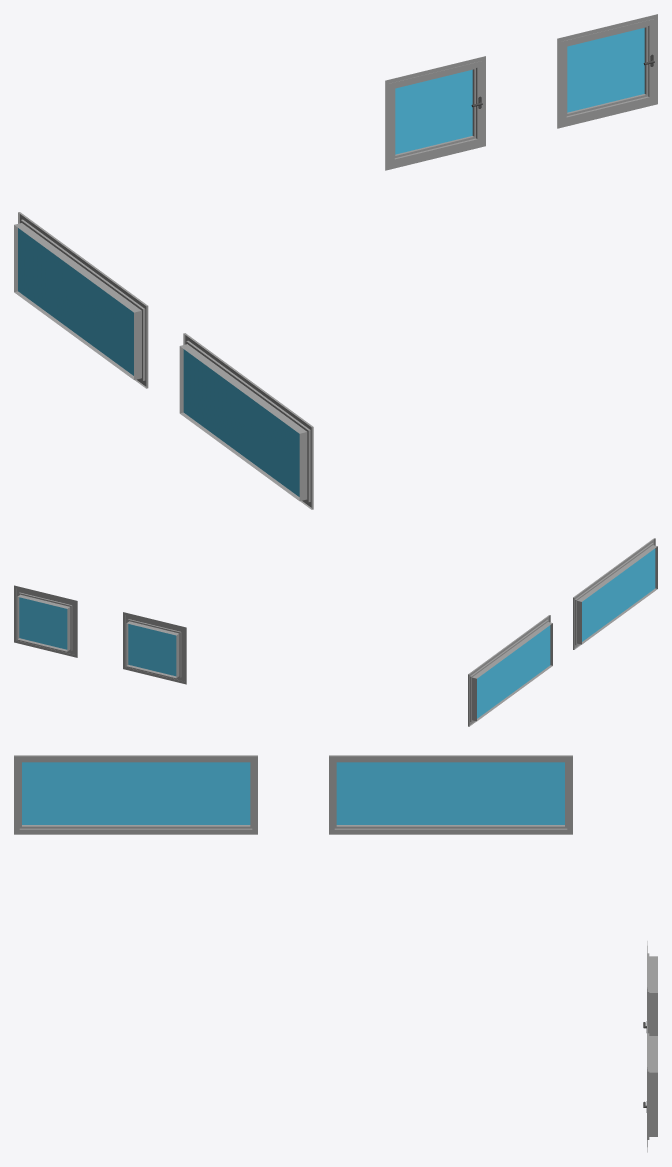
Rendered from Ventanas.fbx.
3 views of the same model, one above another, from view 1: azimuth 30°, elevation 25°; view 2: azimuth 150°, elevation 25°; view 3: azimuth 270°, elevation 25° (orthographic). The views are drawn at different scales.
Visible parts, largest first — view 1: Ctal Esp Abjo, Ctal Esp Arriba, CristalConsultaIzq, CristalConsultaDer, MarcoVentanaRecepcionIzq, MarcoVentanaRecepcionDer, MarcoVentanaConsultaIzq, MarcoVentanaConsultaDer; view 2: Ctal Esp Abjo, Ctal Esp Arriba, CristalConsultaDer, CristalConsultaIzq, MarcoVentanaConsultaIzq, MarcoVentanaConsultaDer, MarcoVentanaRecepcionIzq, MarcoVentanaRecepcionDer; view 3: Ctal Esp Abjo, Ctal Esp Arriba, MarcoVentanaRecepcionDer, MarcoVentanaRecepcionIzq, MarcoVentanaConsultaDer, MarcoVentanaConsultaIzq.
Part boxes in pixels (box(x1,y1,x2,y2)): Ctal Esp Abjo: box(183, 349, 299, 496); Ctal Esp Arriba: box(18, 228, 133, 375); CristalConsultaIzq: box(395, 69, 472, 154); CristalConsultaDer: box(567, 28, 644, 112); MarcoVentanaRecepcionIzq: box(179, 333, 313, 509); MarcoVentanaRecepcionDer: box(14, 212, 148, 388); MarcoVentanaConsultaIzq: box(385, 56, 485, 170); MarcoVentanaConsultaDer: box(557, 14, 657, 128); Ctal Esp Abjo: box(582, 548, 655, 641); Ctal Esp Arriba: box(477, 625, 550, 718); CristalConsultaDer: box(19, 597, 67, 649); CristalConsultaIzq: box(128, 624, 176, 676); MarcoVentanaConsultaIzq: box(123, 612, 186, 684); MarcoVentanaConsultaDer: box(14, 585, 77, 657); MarcoVentanaRecepcionIzq: box(573, 538, 657, 649); MarcoVentanaRecepcionDer: box(468, 615, 552, 726); Ctal Esp Abjo: box(22, 762, 250, 824); Ctal Esp Arriba: box(336, 762, 564, 824); MarcoVentanaRecepcionDer: box(329, 755, 572, 834); MarcoVentanaRecepcionIzq: box(14, 755, 257, 834); MarcoVentanaConsultaDer: box(647, 1020, 657, 1152); MarcoVentanaConsultaIzq: box(647, 941, 657, 1035).
Bounding box in the file's own units: 959 × 120 × 818.
